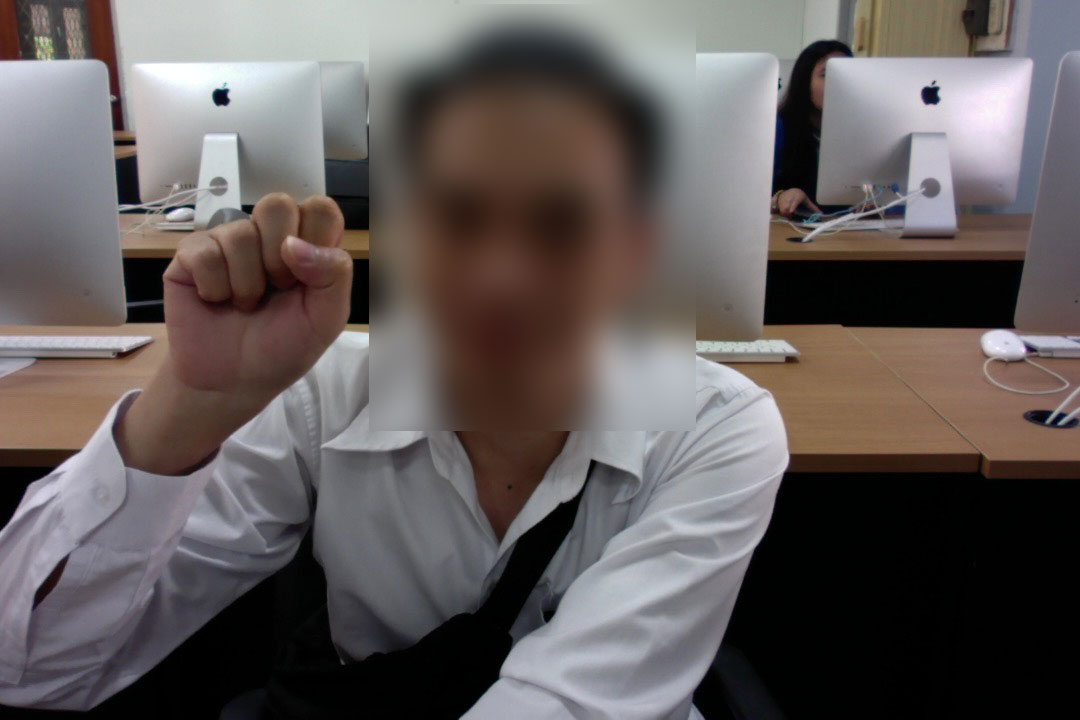sor: (152, 186, 358, 436)
